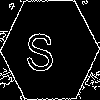S: (25, 25, 55, 71)
